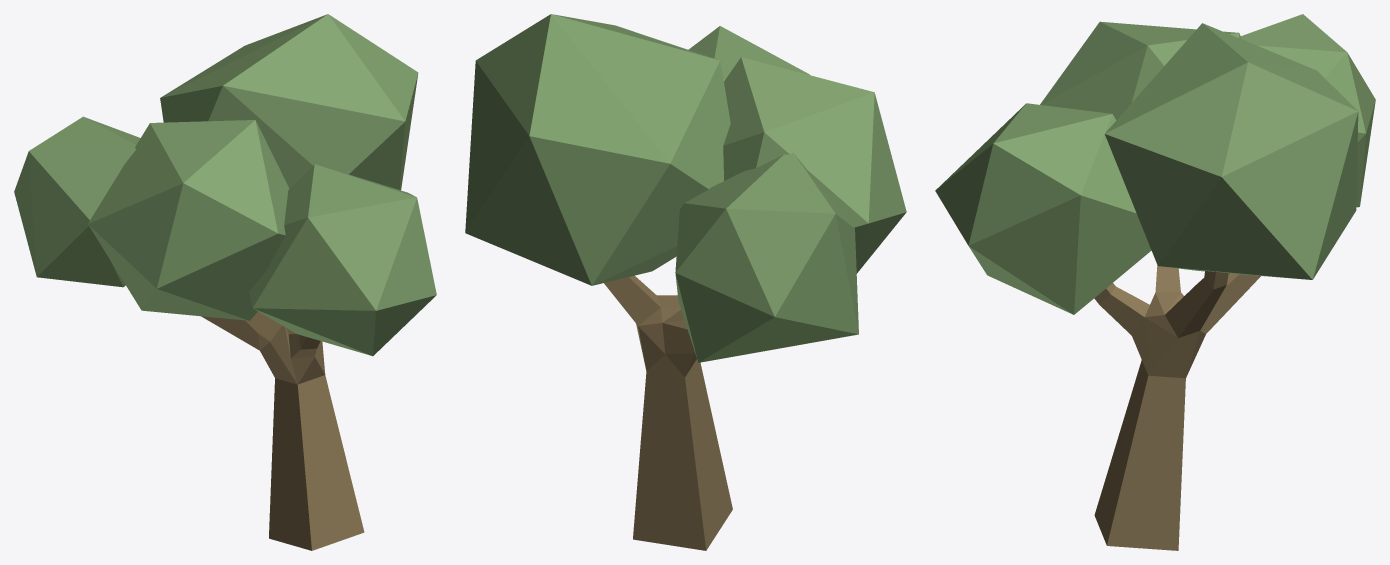
The model's file is arvore nova 1.fbx.
The picture shows the model from 3 angles, left to right: view 1: azimuth 30°, elevation 25°; view 2: azimuth 150°, elevation 25°; view 3: azimuth 270°, elevation 25°; orthographic projection. The views are drawn at different scales.
Visible parts, largest first — view 1: Icosphere.003, Icosphere.002, Icosphere.001, Cube, Icosphere; view 2: Icosphere.002, Icosphere, Icosphere.003, Cube, Icosphere.001; view 3: Icosphere.002, Icosphere.001, Cube, Icosphere.003, Icosphere.
Part boxes in pixels (x1=…): Icosphere.003: x1=88, y1=120, x2=289, y2=320; Icosphere.002: x1=160, y1=14, x2=418, y2=190; Icosphere.001: x1=249, y1=164, x2=436, y2=356; Cube: x1=201, y1=311, x2=364, y2=550; Icosphere: x1=14, y1=116, x2=140, y2=287; Icosphere.002: x1=465, y1=14, x2=730, y2=285; Icosphere: x1=675, y1=152, x2=858, y2=362; Icosphere.003: x1=723, y1=57, x2=906, y2=273; Cube: x1=604, y1=275, x2=732, y2=550; Icosphere.001: x1=688, y1=26, x2=809, y2=81; Icosphere.002: x1=1105, y1=23, x2=1358, y2=279; Icosphere.001: x1=935, y1=103, x2=1151, y2=314; Cube: x1=1094, y1=265, x2=1260, y2=550; Icosphere.003: x1=1040, y1=21, x2=1241, y2=119; Icosphere: x1=1241, y1=14, x2=1375, y2=207.
Bounding box in the file's own units: 285 × 360 × 282.
